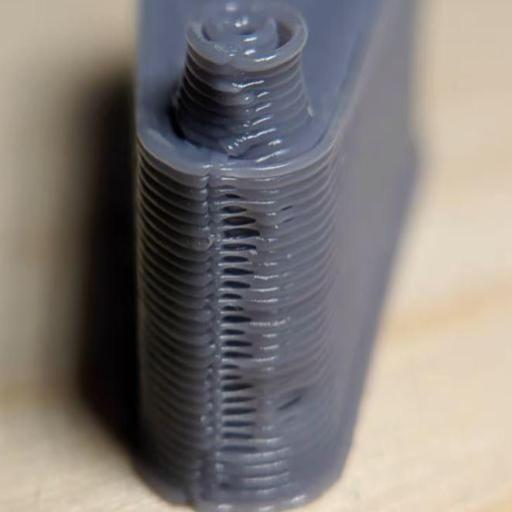cracks: (204, 176, 294, 499)
